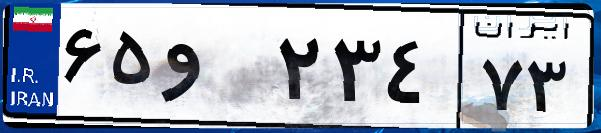2: (270, 28, 330, 110)
3: (330, 28, 385, 110), (525, 38, 570, 115)
4: (385, 28, 445, 110)
5: (110, 28, 158, 98)
6: (57, 26, 110, 100)
7: (475, 38, 525, 113)
و: (158, 20, 270, 120)
